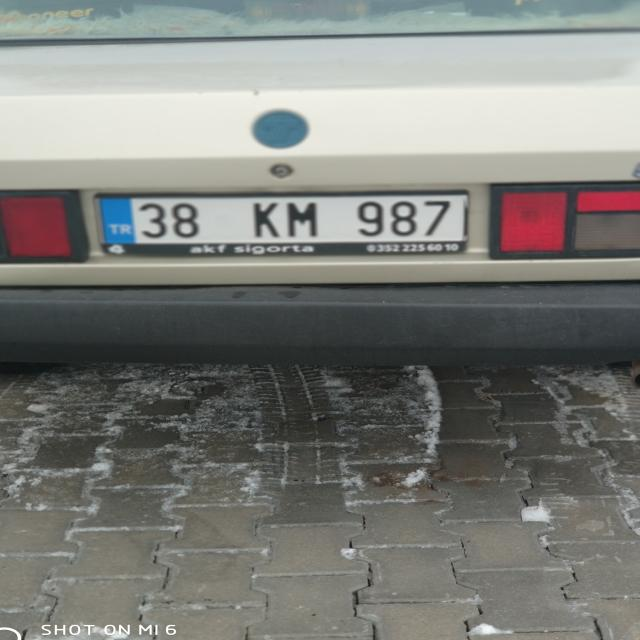plate: (99, 193, 469, 244)
